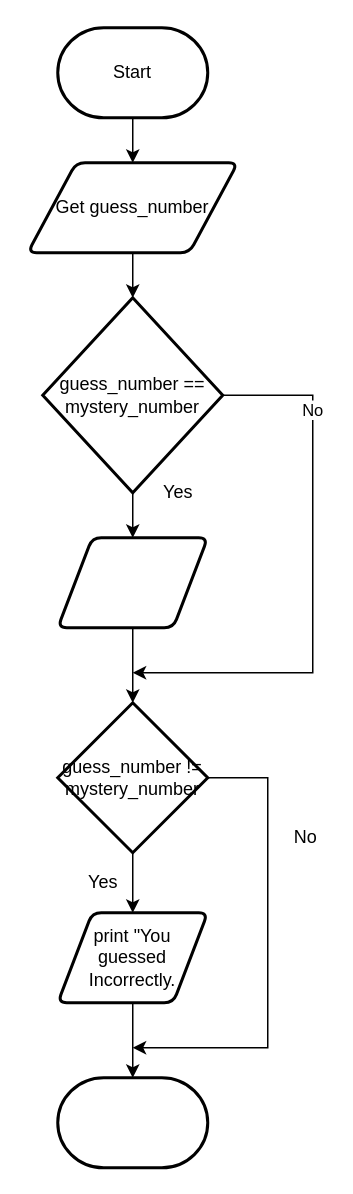
Image size: 353x1194. Some labels were removed from this diagram. The centre of each missing label's shape, as x and y in pixels:
print "You guessed correct: (x=132, y=582)
Stop: (x=132, y=1122)
